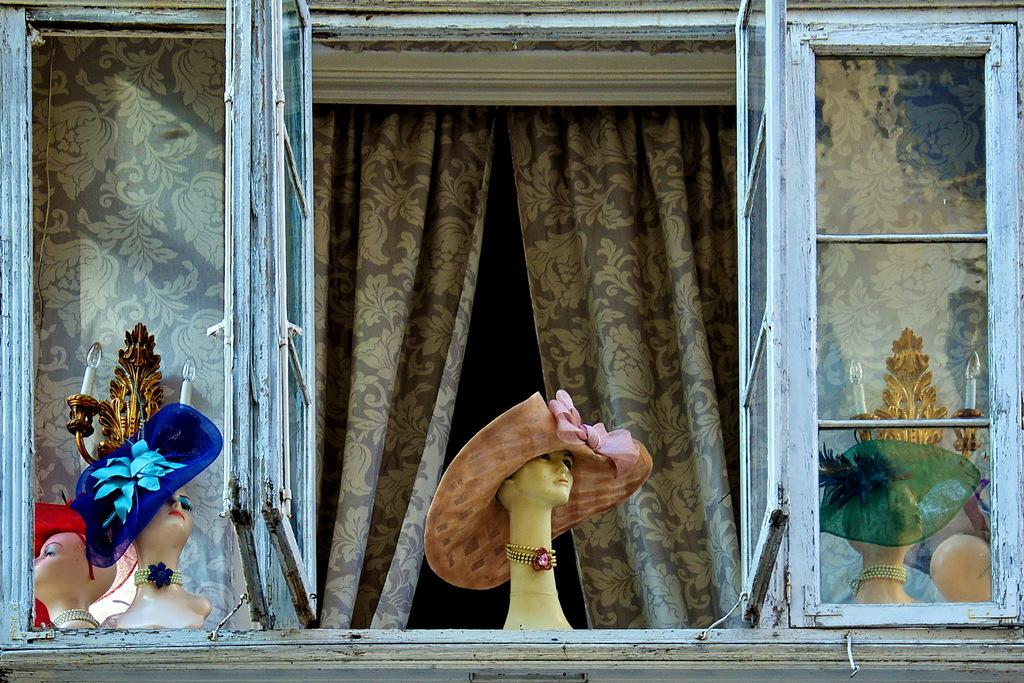Hat: (424, 386, 654, 593), (70, 402, 224, 568), (816, 434, 984, 545), (30, 500, 91, 626)
